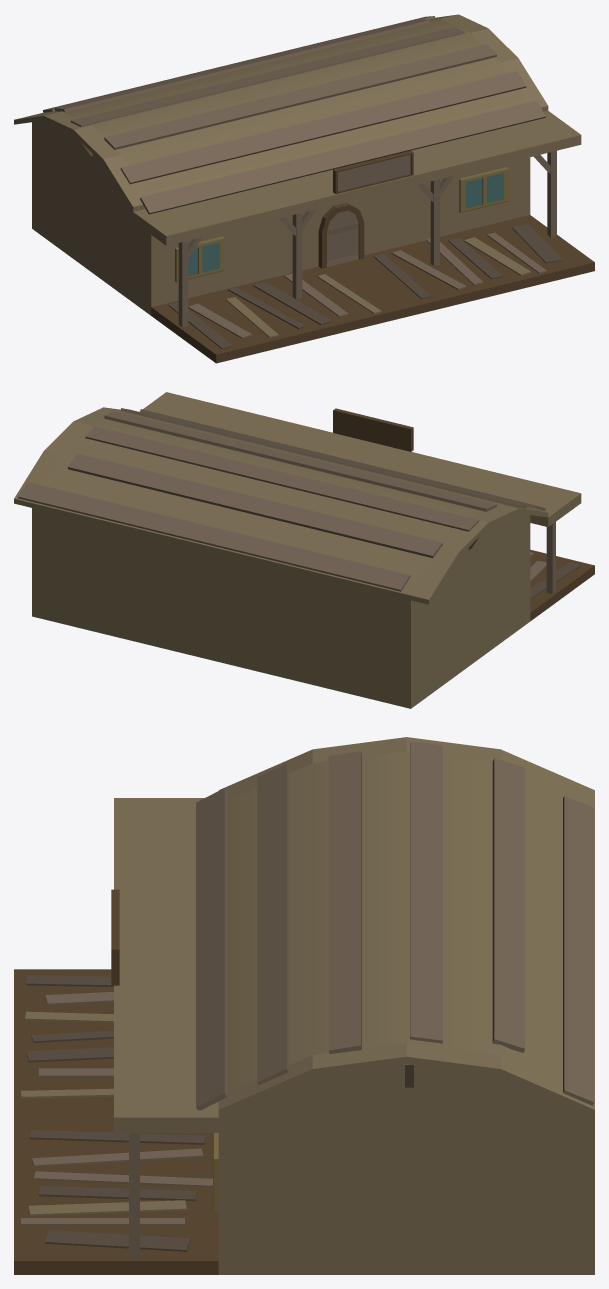
Rendered from Building_04.fbx.
3 renders of one model, top to bottom at view 1: azimuth 30°, elevation 25°; view 2: azimuth 150°, elevation 25°; view 3: azimuth 270°, elevation 25°, orthographic. The views are drawn at different scales.
Parts seen in each view (by area): view 1: Building_04; view 2: Building_04; view 3: Building_04.
Part boxes in pixels (x1,y1,x2,y2): Building_04: (14, 14, 594, 363); Building_04: (14, 392, 594, 708); Building_04: (14, 737, 594, 1274).
Bounding box in the file's own units: 990 × 339 × 760.
